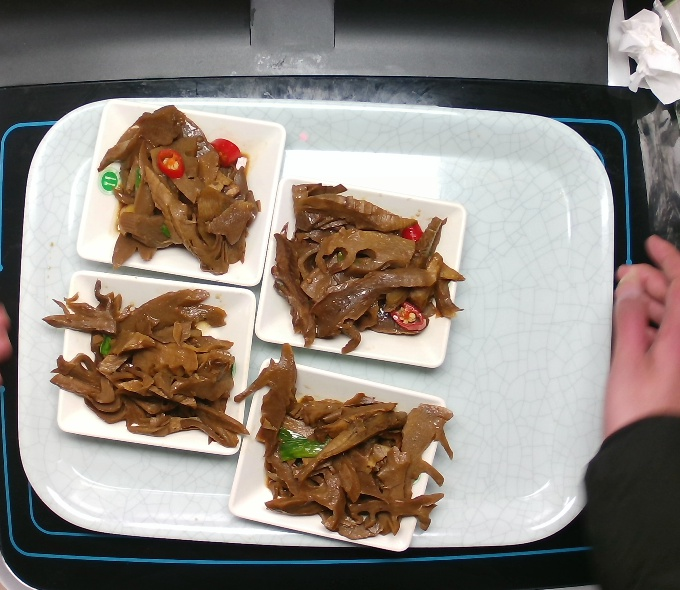wcq-SunGan: (230, 347, 465, 552), (50, 276, 252, 464), (274, 174, 473, 354), (88, 97, 259, 283)
